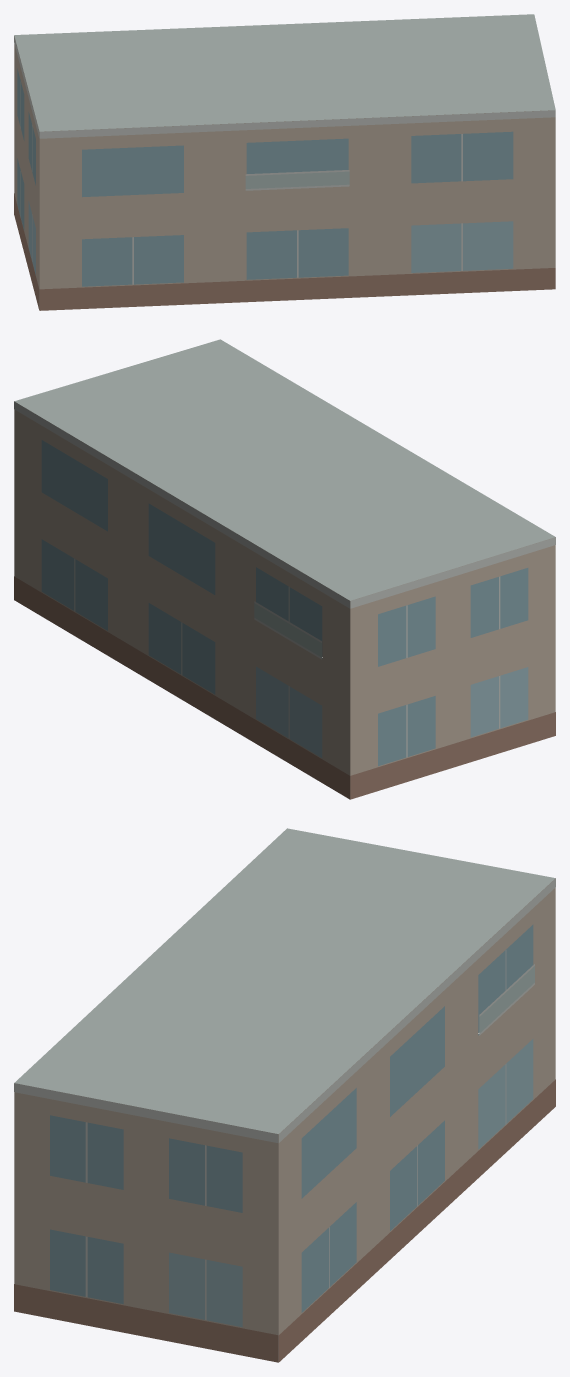
The model's file is survey-upis-32671477.glb.
The picture shows the model from 3 angles, top to bottom: view 1: azimuth 30°, elevation 25°; view 2: azimuth 150°, elevation 25°; view 3: azimuth 270°, elevation 25°; orthographic projection. The views are drawn at different scales.
Visible parts, largest first — view 1: survey-upis-32671477.tmp; view 2: survey-upis-32671477.tmp; view 3: survey-upis-32671477.tmp.
Boxes of the visible parts, left/top/right/bottom form: survey-upis-32671477.tmp: left=14, top=14, right=555, bottom=310; survey-upis-32671477.tmp: left=14, top=339, right=555, bottom=799; survey-upis-32671477.tmp: left=14, top=828, right=555, bottom=1362.
Size of the model in its own units: 17.53 by 6.1 by 13.12.
